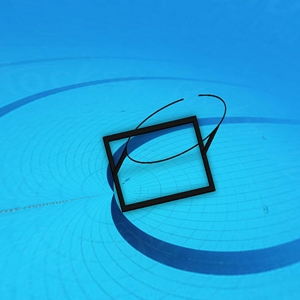circle: (102, 94, 232, 215)
